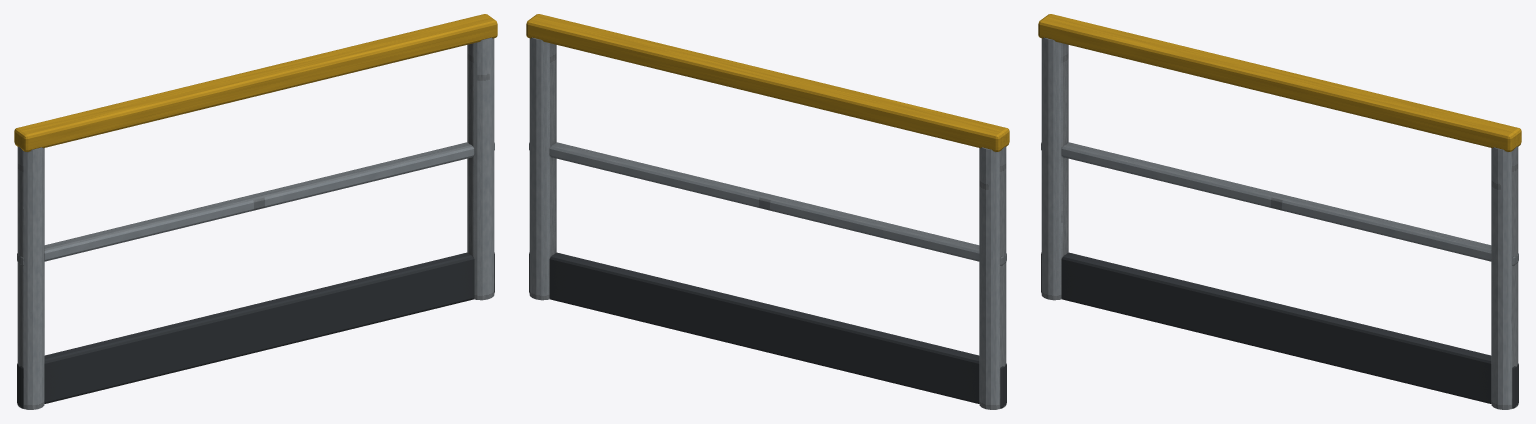
File: base_railing.glb
3 views of the same model, side by side, from view 1: azimuth 30°, elevation 25°; view 2: azimuth 150°, elevation 25°; view 3: azimuth 330°, elevation 25° (orthographic).
Parts seen in each view (by area): view 1: base_railing; view 2: base_railing; view 3: base_railing.
Part boxes in pixels (<box>): base_railing: <box>14,14,497,409</box>; base_railing: <box>526,14,1009,409</box>; base_railing: <box>1038,14,1521,409</box>.
Bounding box in the file's own units: 2 × 1.12 × 0.1.
3 materials, 3 textured.
